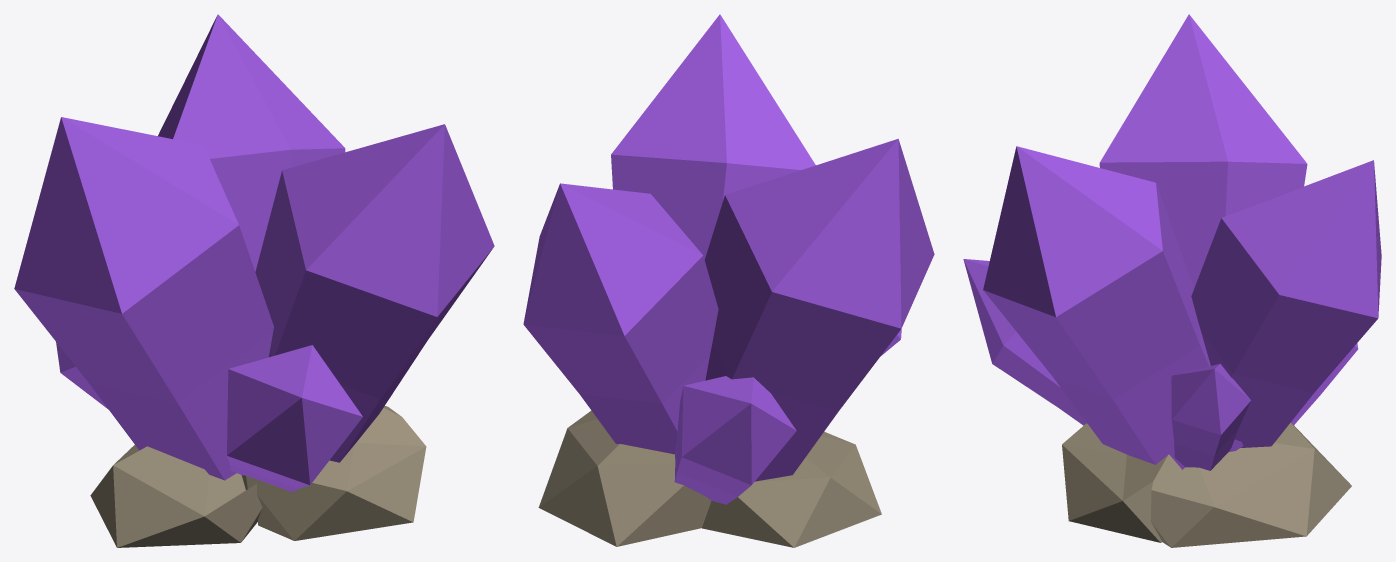
Rendered from ametist.fbx.
The picture shows the model from 3 angles, left to right: view 1: azimuth 30°, elevation 25°; view 2: azimuth 150°, elevation 25°; view 3: azimuth 270°, elevation 25°; orthographic projection. The views are drawn at different scales.
Visible parts, largest first — view 1: crystal cluster on rock_rock_0; view 2: crystal cluster on rock_rock_0; view 3: crystal cluster on rock_rock_0.
Part boxes in pixels (x1,y1,x2,y2): crystal cluster on rock_rock_0: (14, 14, 494, 547); crystal cluster on rock_rock_0: (523, 14, 934, 547); crystal cluster on rock_rock_0: (963, 14, 1381, 547).
Size of the model in its own units: 236 by 250 by 248.
